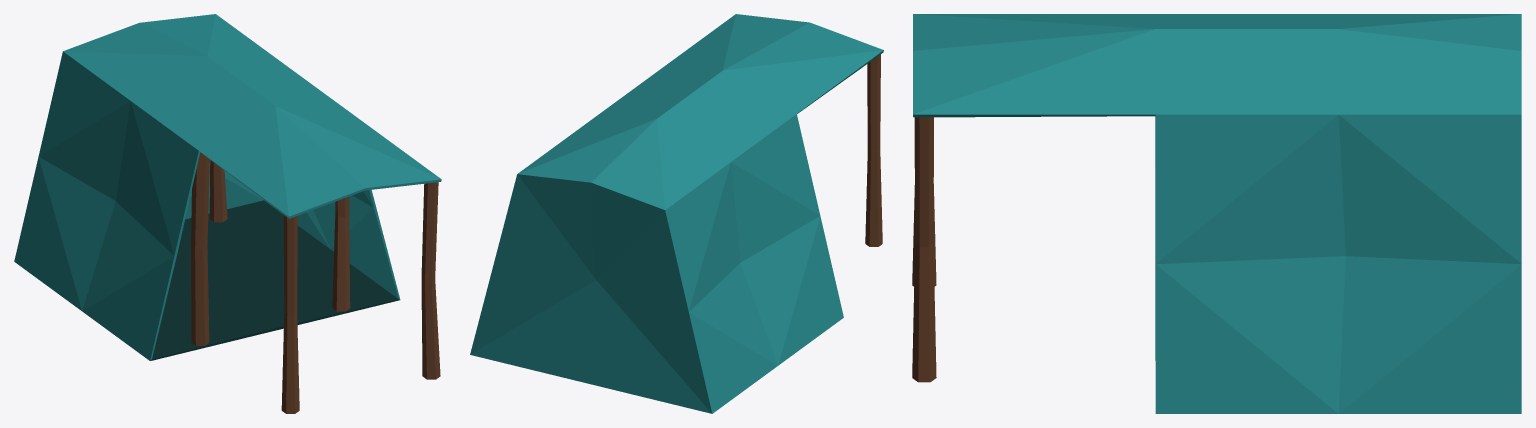
Rendered from Tent_4_Blue.fbx.
3 views of the same model, side by side, from view 1: azimuth 30°, elevation 25°; view 2: azimuth 150°, elevation 25°; view 3: azimuth 270°, elevation 25° (orthographic). The views are drawn at different scales.
Parts seen in each view (by area): view 1: Tent_4_Blue_Part_2, Tent_4_Blue_Part_3, Tent_4_Blue_Part_1, Tent_4_Blue_Part_4, Tent_4_Blue_Part_8, Tent_4_Blue_Part_6, Tent_4_Blue_Part_7, Tent_4_Blue_Part_9, Tent_4_Blue_Part_11, Tent_4_Blue_Part_5; view 2: Tent_4_Blue_Part_5, Tent_4_Blue_Part_2, Tent_4_Blue_Part_3, Tent_4_Blue_Part_7; view 3: Tent_4_Blue_Part_4, Tent_4_Blue_Part_2, Tent_4_Blue_Part_6.
Boxes of the visible parts, left/top/right/bottom form: Tent_4_Blue_Part_2: left=63, top=14, right=441, bottom=218; Tent_4_Blue_Part_3: left=14, top=51, right=200, bottom=360; Tent_4_Blue_Part_1: left=151, top=200, right=399, bottom=360; Tent_4_Blue_Part_4: left=264, top=190, right=400, bottom=299; Tent_4_Blue_Part_8: left=191, top=152, right=209, bottom=345; Tent_4_Blue_Part_6: left=421, top=182, right=440, bottom=379; Tent_4_Blue_Part_7: left=281, top=215, right=299, bottom=413; Tent_4_Blue_Part_9: left=332, top=196, right=350, bottom=311; Tent_4_Blue_Part_11: left=209, top=160, right=227, bottom=222; Tent_4_Blue_Part_5: left=185, top=160, right=263, bottom=219; Tent_4_Blue_Part_5: left=470, top=174, right=712, bottom=413; Tent_4_Blue_Part_2: left=517, top=14, right=883, bottom=209; Tent_4_Blue_Part_3: left=665, top=114, right=843, bottom=413; Tent_4_Blue_Part_7: left=865, top=54, right=882, bottom=246; Tent_4_Blue_Part_4: left=1155, top=114, right=1521, bottom=413; Tent_4_Blue_Part_2: left=913, top=14, right=1521, bottom=117; Tent_4_Blue_Part_6: left=912, top=117, right=936, bottom=382.
Size of the model in its own units: 320 by 274 by 501.
